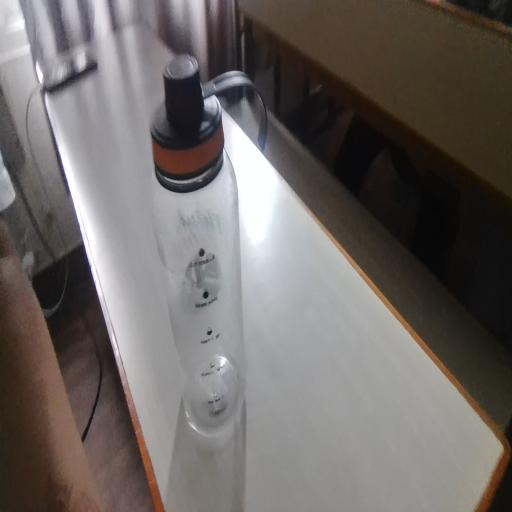Bottle: (122, 36, 275, 456)
